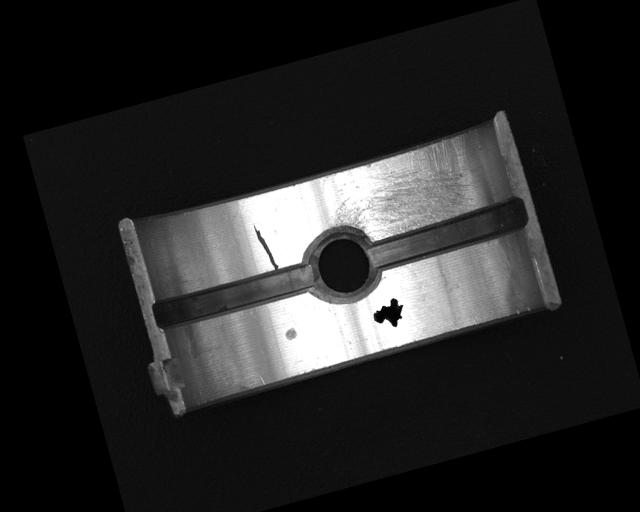blot: (369, 295, 408, 332)
bruise: (283, 326, 299, 341)
gap: (148, 255, 321, 334), (363, 195, 531, 273)
hole: (299, 219, 386, 311)
nick: (250, 220, 279, 273)
scratch: (319, 132, 487, 252)
